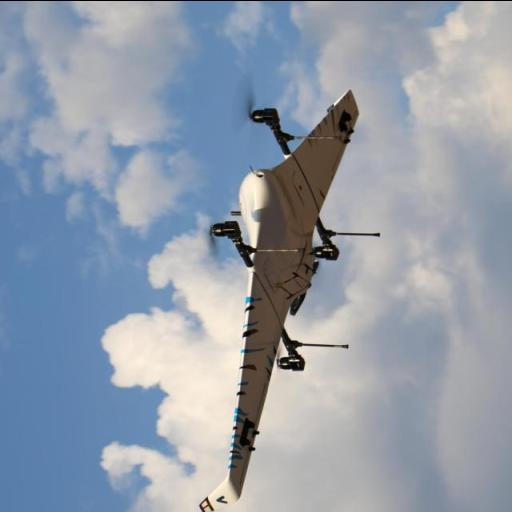uav: (194, 83, 382, 512)
